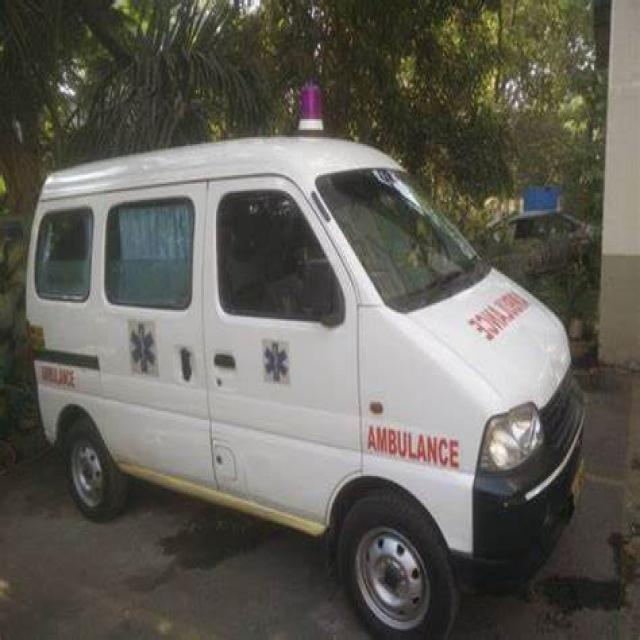ambulance: (278, 71, 324, 144)
